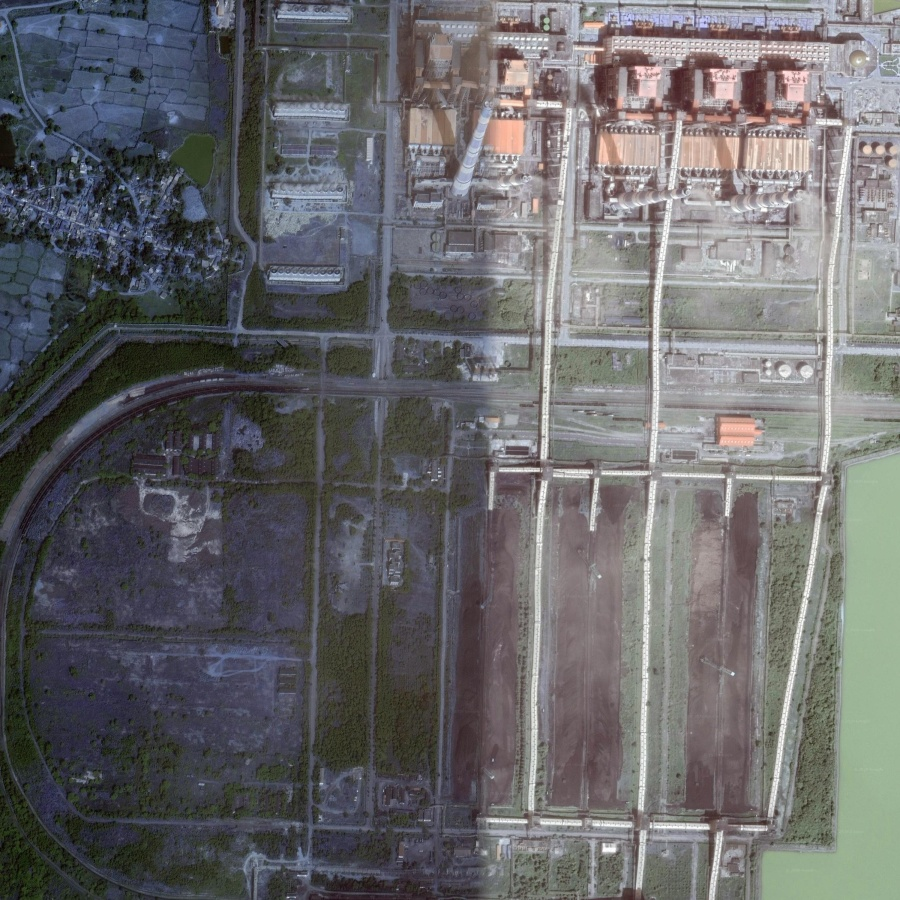PowerPlant: (442, 449, 801, 844)
